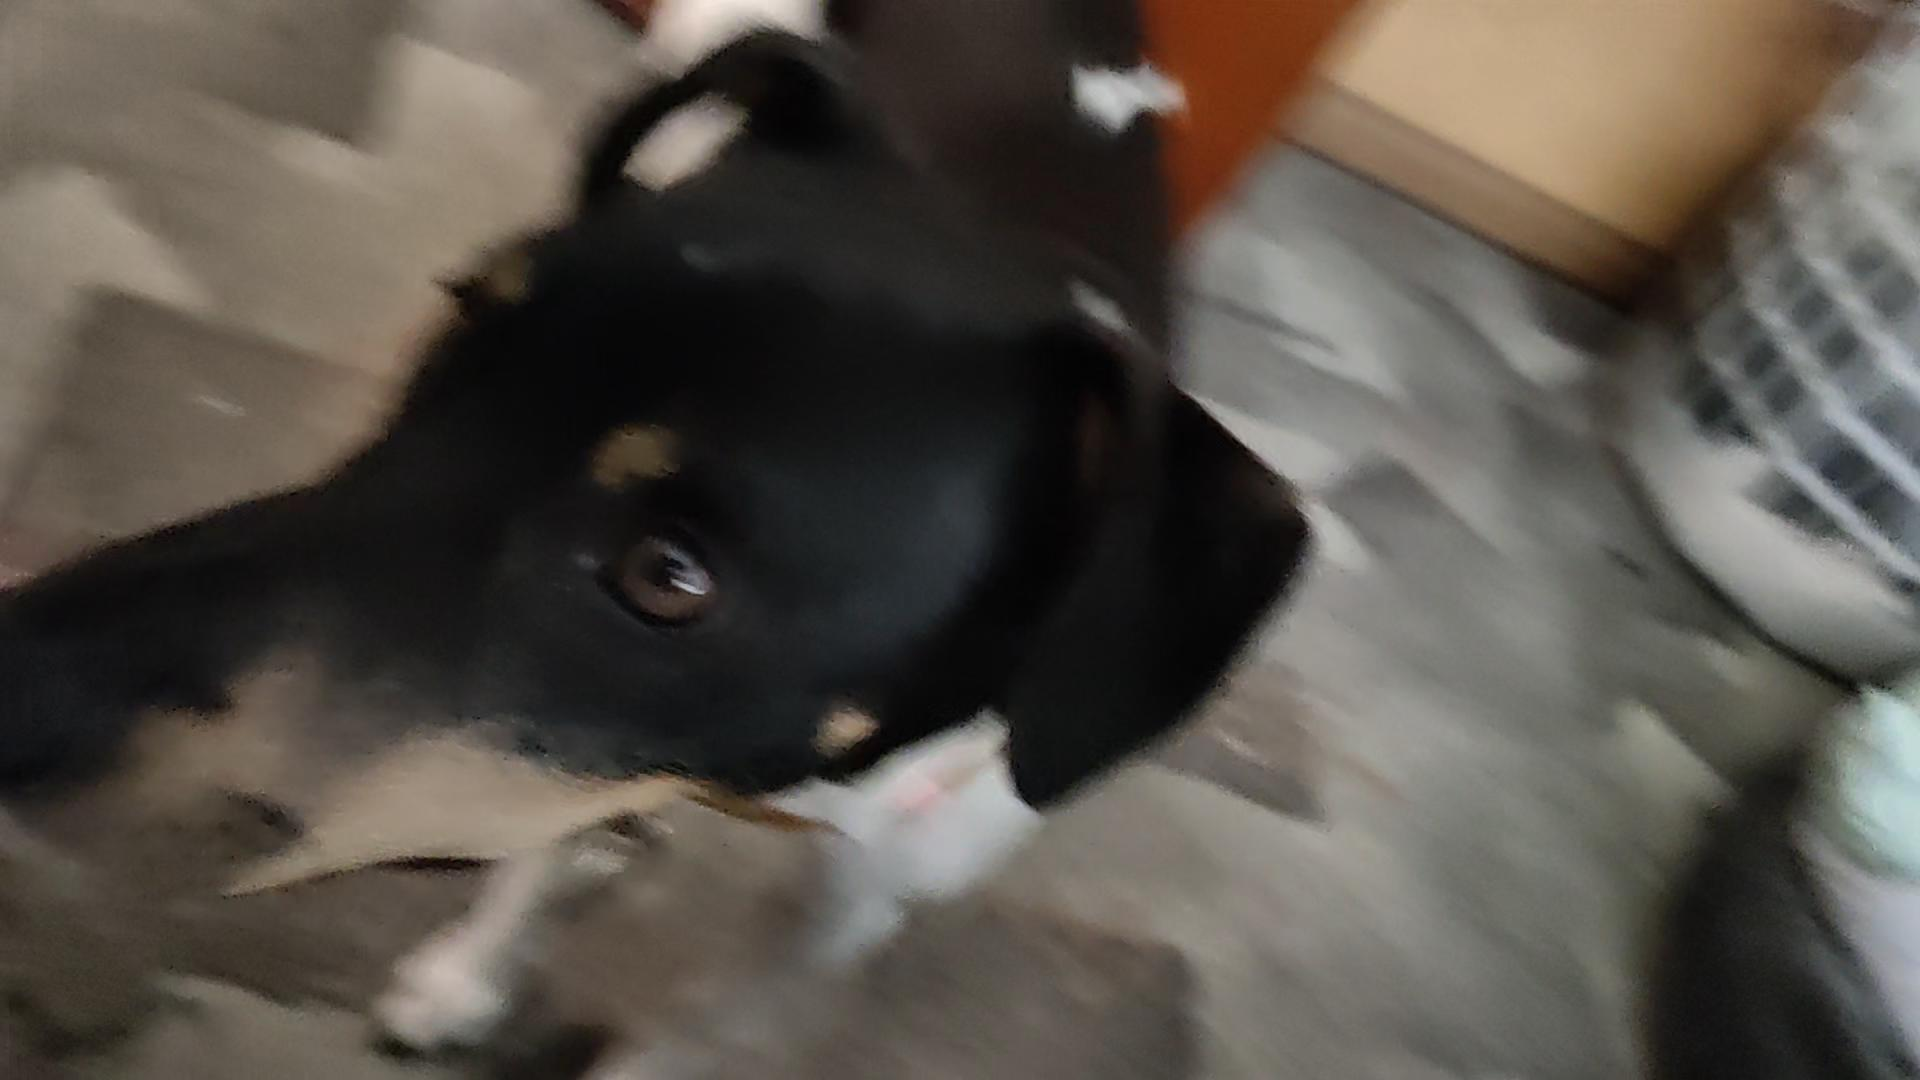Dog: (0, 0, 1320, 1080)
